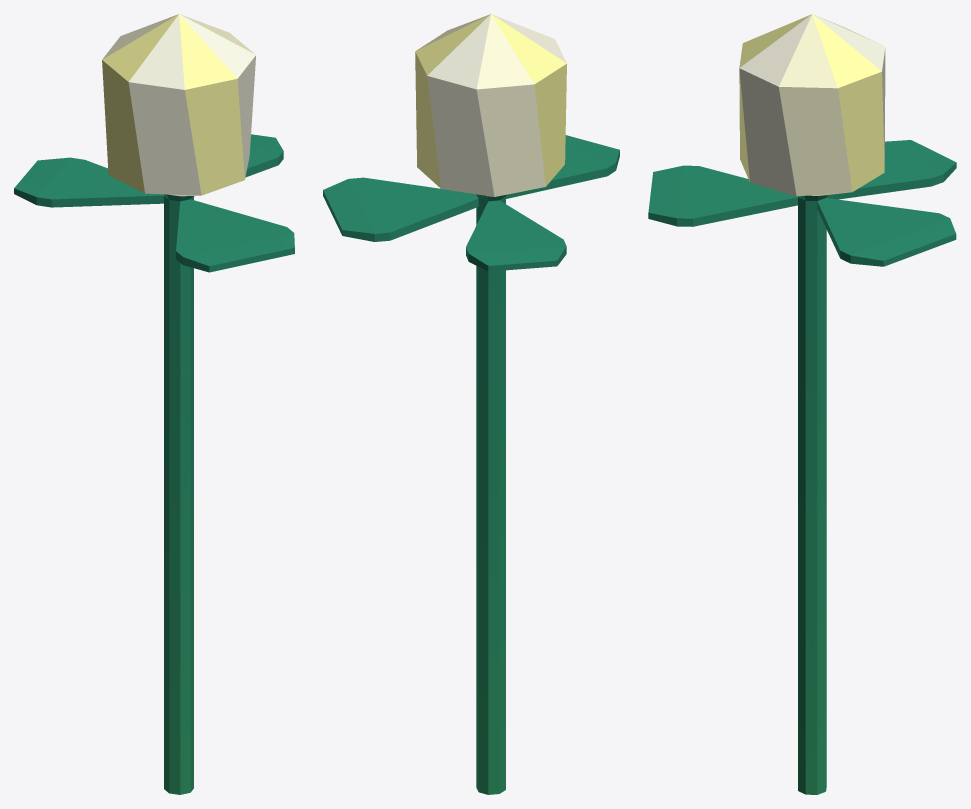
Rendered from Flowerrs_White.fbx.
3 views of the same model, side by side, from view 1: azimuth 30°, elevation 25°; view 2: azimuth 150°, elevation 25°; view 3: azimuth 270°, elevation 25° (orthographic).
Visible parts, largest first — view 1: Cylinder.048; view 2: Cylinder.048; view 3: Cylinder.048.
Boxes of the visible parts, x1=… form: Cylinder.048: x1=14, y1=14, x2=294, y2=794; Cylinder.048: x1=323, y1=14, x2=619, y2=794; Cylinder.048: x1=648, y1=14, x2=956, y2=794.
Size of the model in its own units: 10.8 by 32.21 by 11.61.
